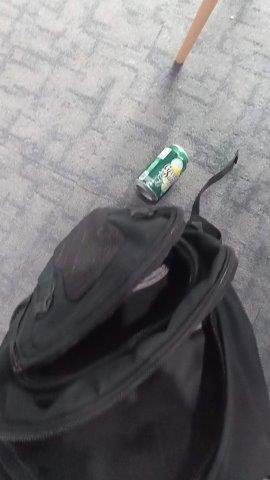kaleng: (136, 144, 189, 201)
